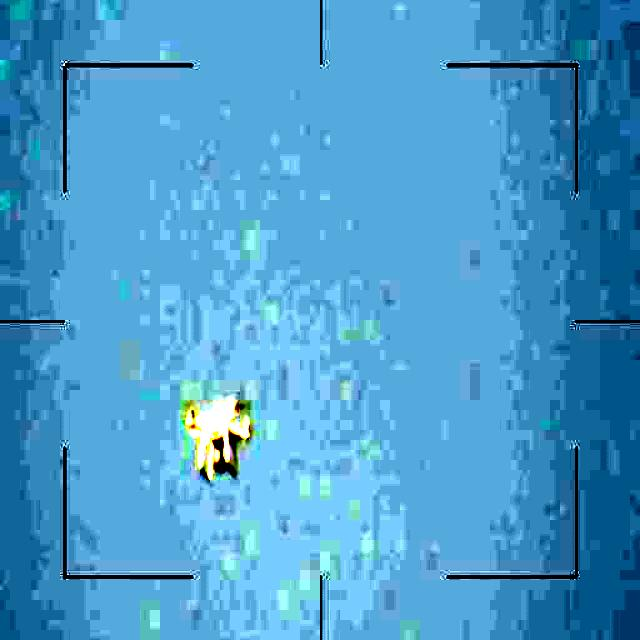bird: (172, 385, 256, 486)
